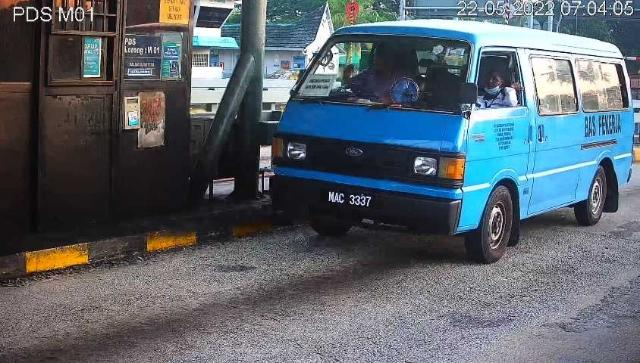License_Plate: (325, 187, 378, 213)
van: (272, 20, 636, 264)
